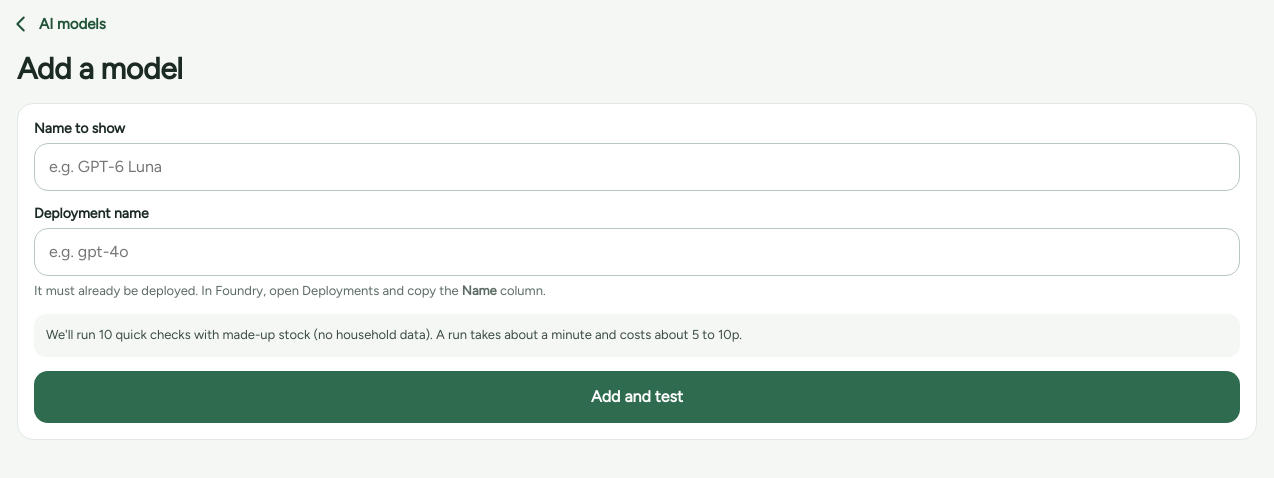
Test: Add a model › both fields are needed
The image size is (1274, 478).
Click the button "Add and test" at (637, 396), box [34, 370, 1240, 422]
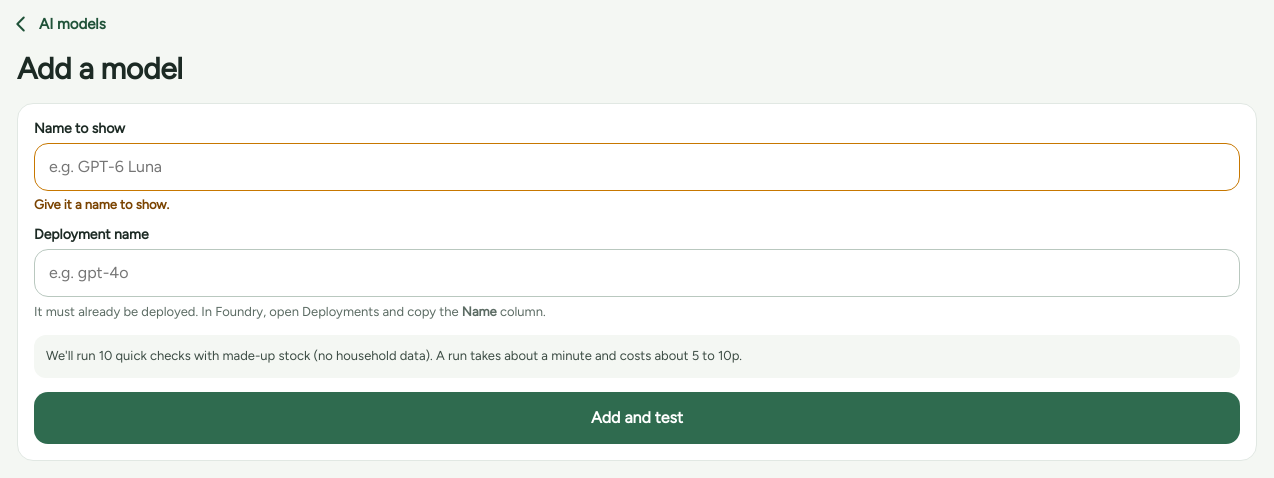
Result: the text "Give it a name to show." is shown at [34, 196, 169, 212]
Type "Luna" into the field labelled "Name to show" at (637, 166), box [34, 142, 1240, 190]
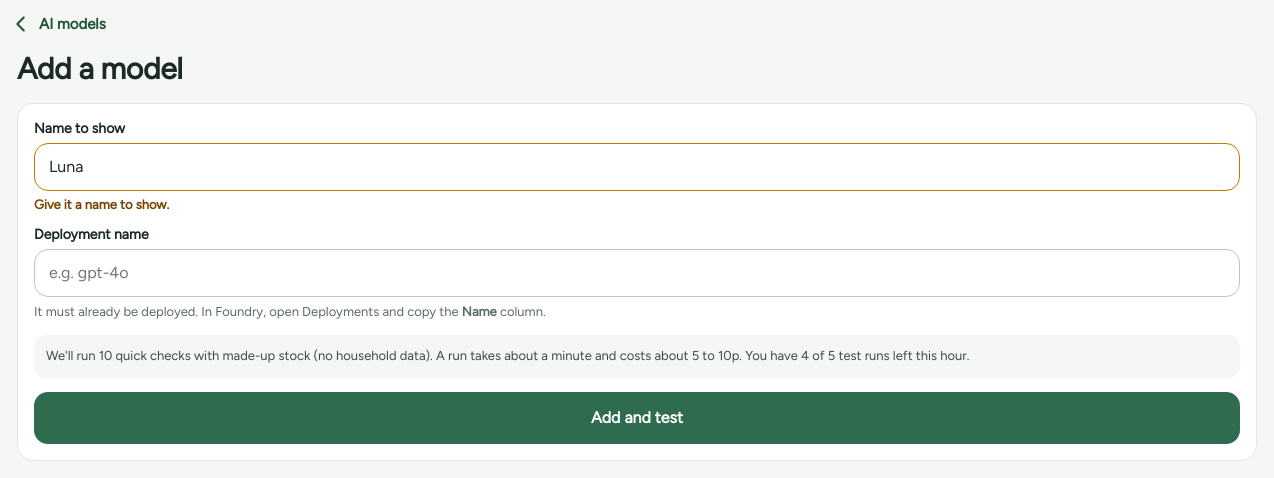
Click the button "Add and test" at (637, 418), box [34, 392, 1240, 444]
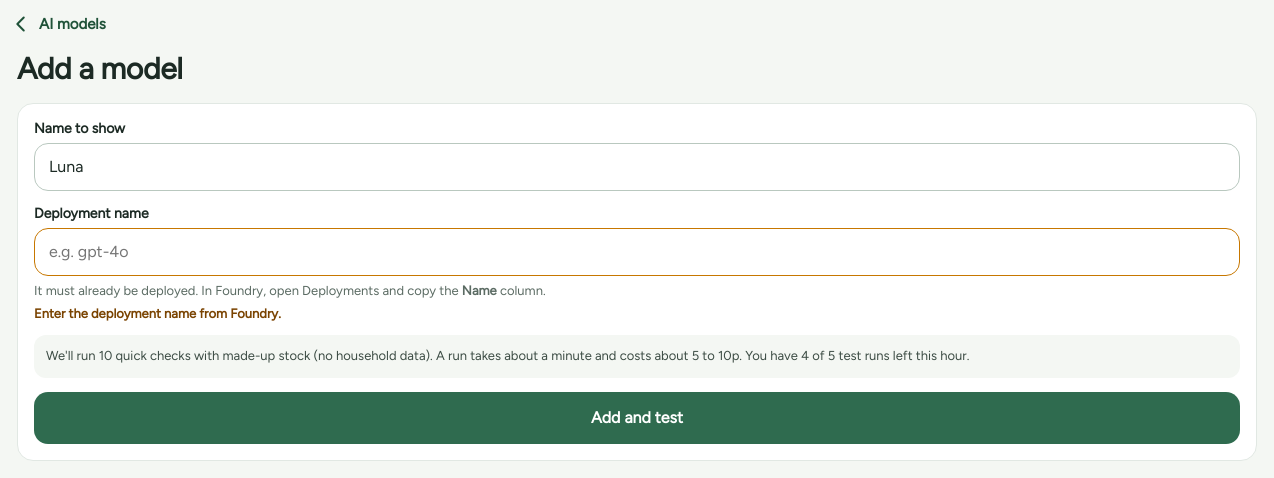
Result: the text "Enter the deployment name from Foundry." is shown at [34, 306, 281, 321]
